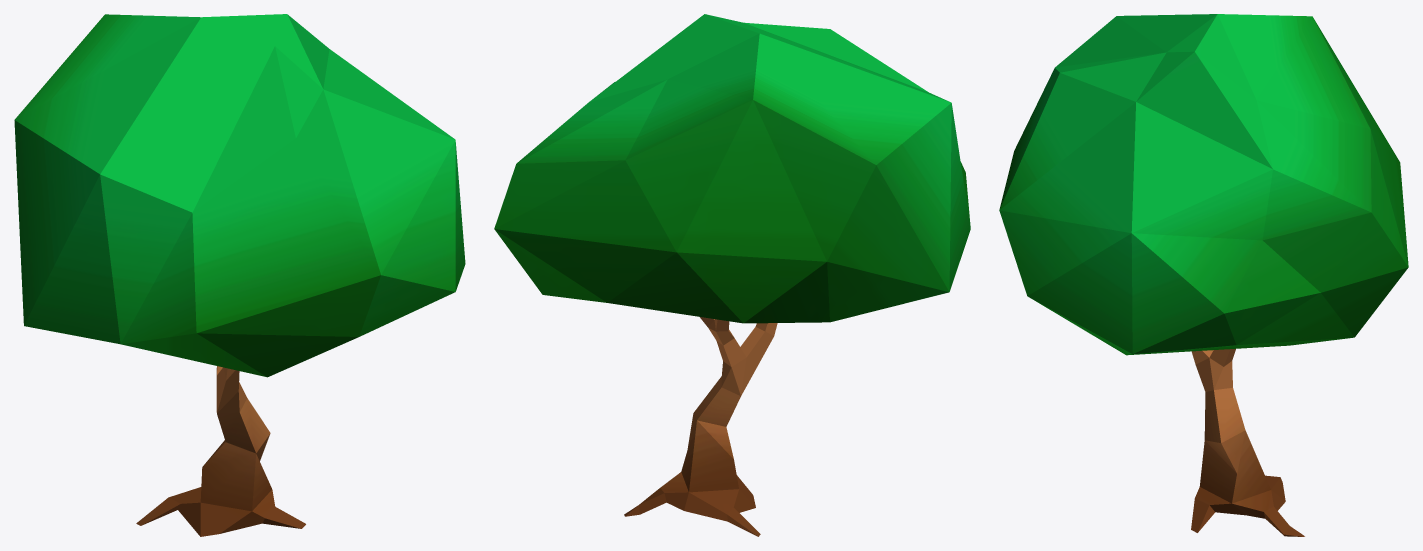
The model's file is tree3.glb.
3 renders of one model, left to right at view 1: azimuth 30°, elevation 25°; view 2: azimuth 150°, elevation 25°; view 3: azimuth 270°, elevation 25°, orthographic. The views are drawn at different scales.
Parts seen in each view (by area): view 1: tree3; view 2: tree3; view 3: tree3.
Part boxes in pixels (<box>): tree3: <box>14,14,465,536</box>; tree3: <box>494,14,970,536</box>; tree3: <box>999,14,1408,536</box>.
Bounding box in the file's own units: 6.12 × 7.05 × 5.46.
1 material, 1 textured.
